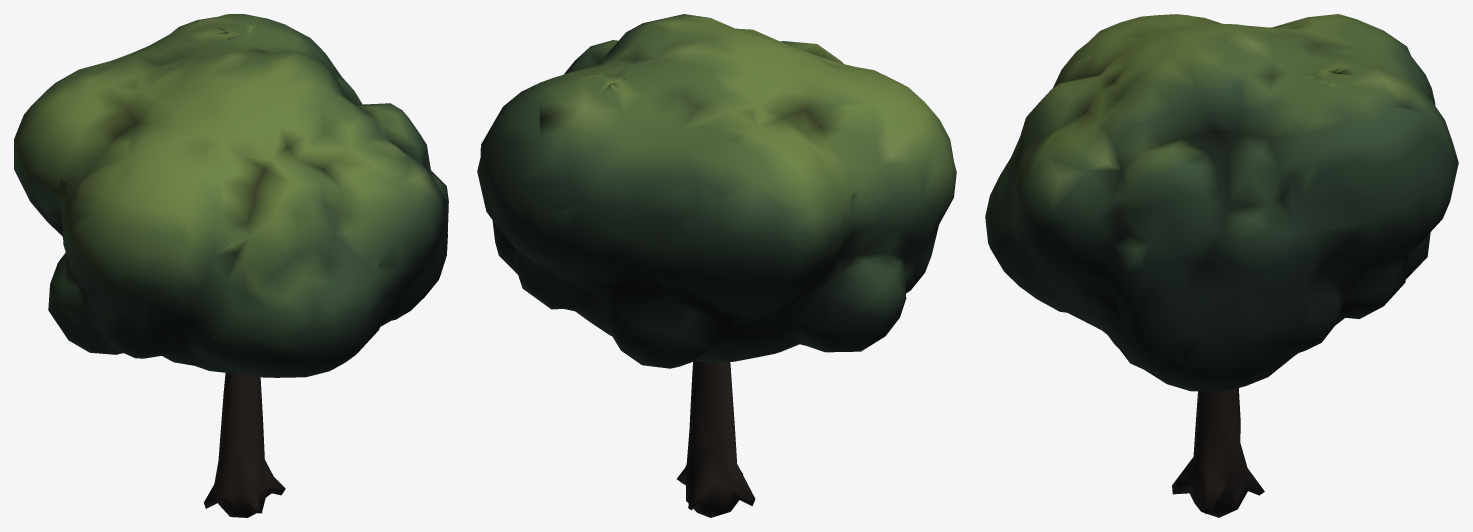
Rendered from dialwood_c.glb.
The picture shows the model from 3 angles, left to right: view 1: azimuth 30°, elevation 25°; view 2: azimuth 150°, elevation 25°; view 3: azimuth 270°, elevation 25°; orthographic projection. The views are drawn at different scales.
Parts seen in each view (by area): view 1: dialwood_c; view 2: dialwood_c; view 3: dialwood_c.
Boxes of the visible parts, bbox=[...] form: dialwood_c: bbox=[14, 14, 448, 517]; dialwood_c: bbox=[477, 14, 956, 517]; dialwood_c: bbox=[985, 14, 1458, 517].
Bounding box in the file's own units: 4.67 × 5.3 × 4.75.
